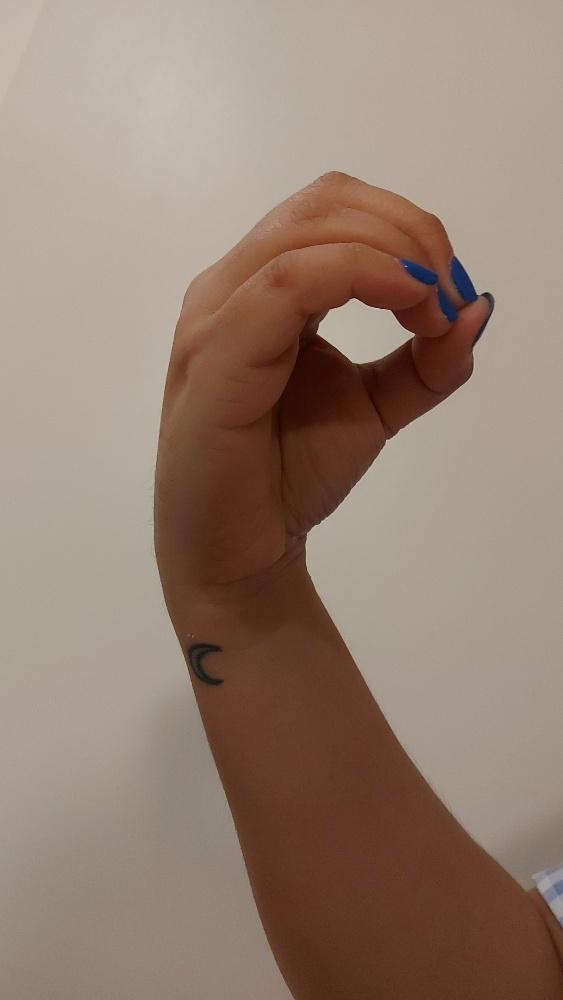o: (150, 165, 497, 584)
